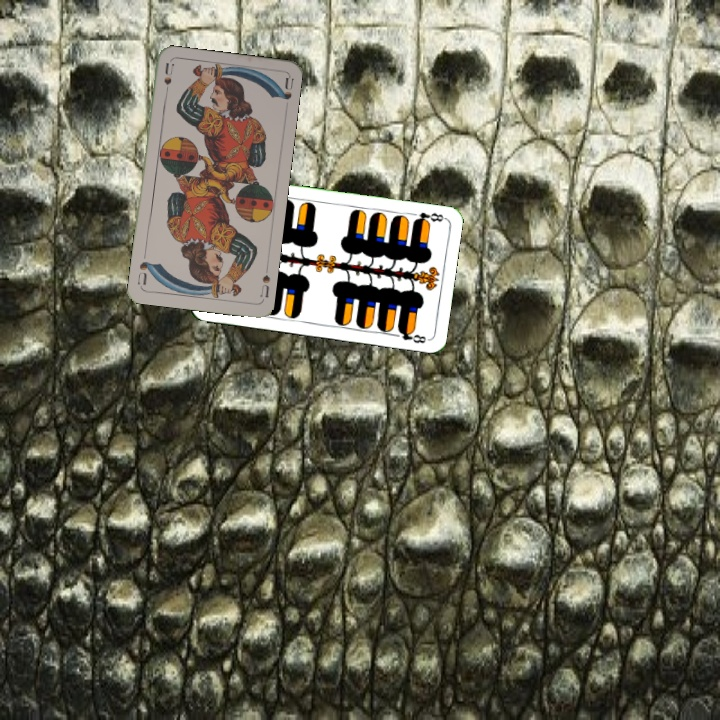E8: (410, 208, 447, 226)
SU: (160, 60, 177, 101), (256, 262, 272, 302)
